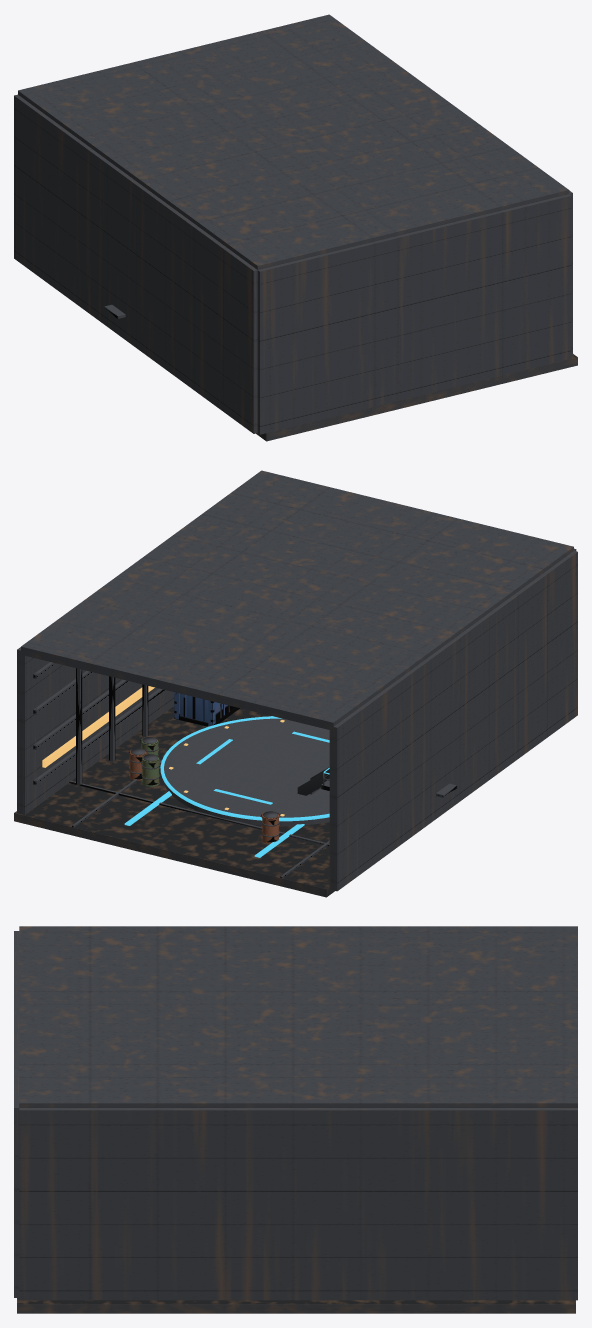
Rendered from hangar_interior.glb.
3 renders of one model, top to bottom at view 1: azimuth 30°, elevation 25°; view 2: azimuth 150°, elevation 25°; view 3: azimuth 270°, elevation 25°, orthographic. The views are drawn at different scales.
Visible parts, largest first — view 1: Hall_Ceiling, Hall_WallBack, Hall_WallL, Hall_Floor; view 2: Hall_Ceiling, Hall_WallL, Hall_Floor, LandingPlatform, Hall_WallR, Cont_F, PlatformRing, WallStripe_5.7, SideRibR_0, PipeR_5, FloorSeam_5, SideRibR_1 (+1 smaller); view 3: Hall_WallR, Hall_Ceiling, Hall_Floor, Hall_WallBack.
Boxes of the visible parts, x1,y1,x2,y2 form: Hall_Ceiling: [18, 14, 569, 269]; Hall_WallBack: [257, 194, 571, 434]; Hall_WallL: [14, 94, 257, 433]; Hall_Floor: [256, 354, 577, 441]; Hall_Ceiling: [21, 470, 573, 730]; Hall_WallL: [329, 551, 577, 891]; Hall_Floor: [14, 706, 334, 897]; LandingPlatform: [162, 718, 329, 826]; Hall_WallR: [17, 647, 174, 814]; Cont_F: [174, 692, 239, 726]; PlatformRing: [160, 716, 329, 821]; WallStripe_5.7: [42, 686, 154, 767]; SideRibR_0: [33, 688, 165, 785]; PipeR_5: [76, 668, 82, 785]; FloorSeam_5: [69, 780, 329, 846]; SideRibR_1: [33, 679, 129, 749]; Hall_WallR: [19, 1108, 577, 1300]; Hall_Ceiling: [19, 926, 577, 1107]; Hall_Floor: [17, 1298, 575, 1313]; Hall_WallBack: [14, 931, 19, 1297].
Size of the model in its own units: 12.75 by 6.5 by 16.15.
Materials: 16 (14 with a texture image).
